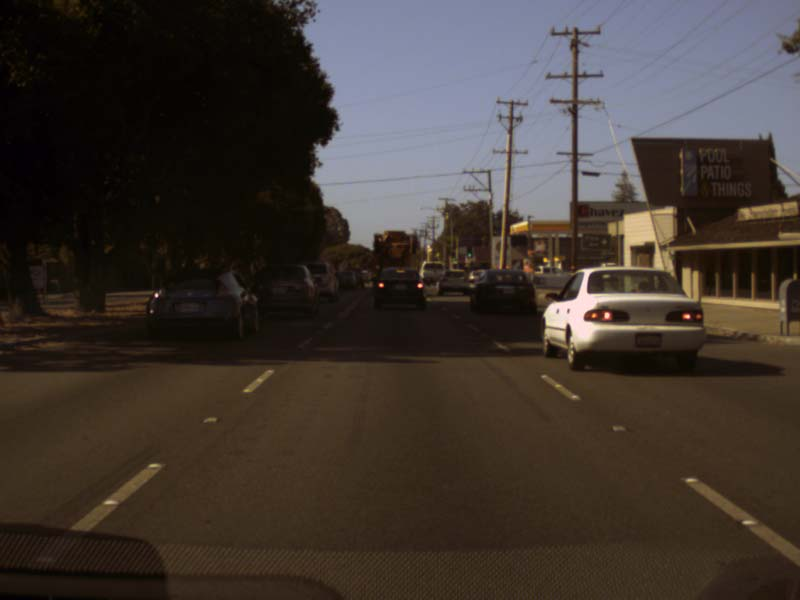Green: (467, 246, 472, 258), (451, 251, 456, 261)
